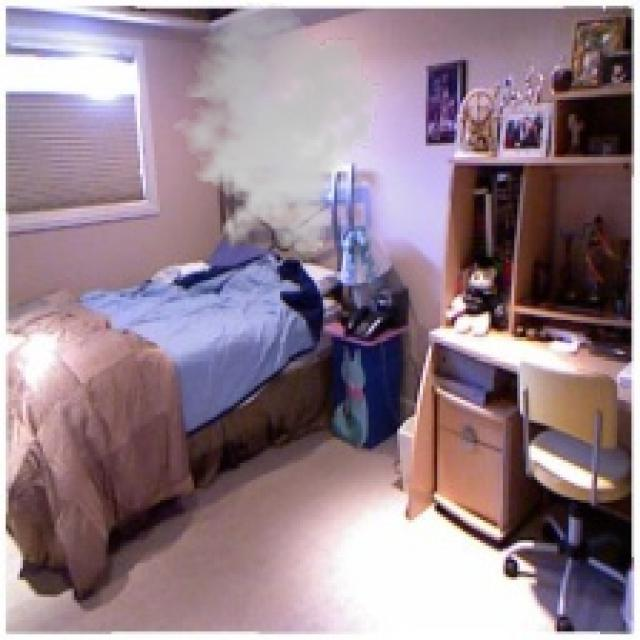Smoke: (160, 2, 389, 258)
